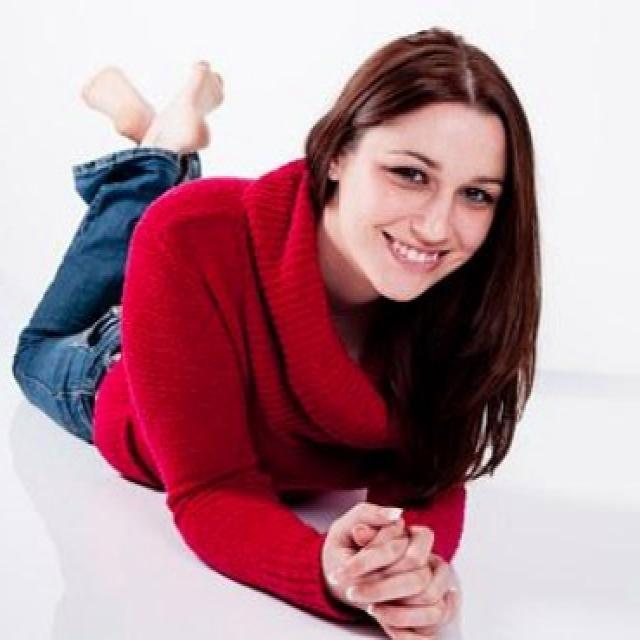adult: (3, 29, 534, 638)
